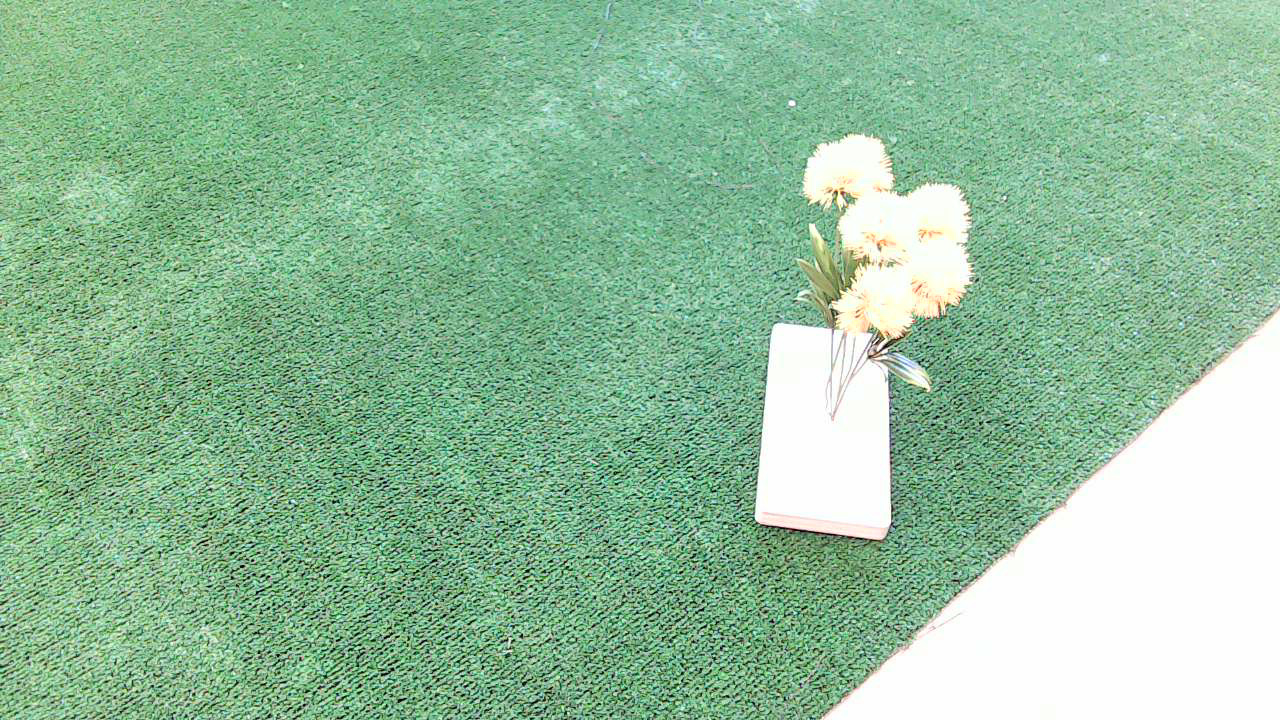dandelion: (746, 119, 997, 463)
